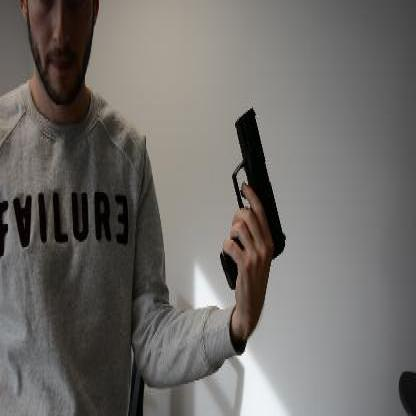pistol: (218, 105, 286, 290)
